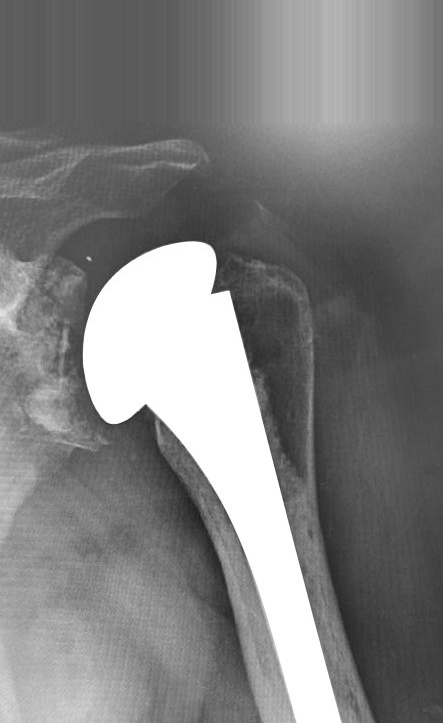Shoulder - Anotomyhead - Stryker: (70, 229, 234, 437)
Shoulder - Anotomytail - Stryker: (130, 279, 299, 515)
